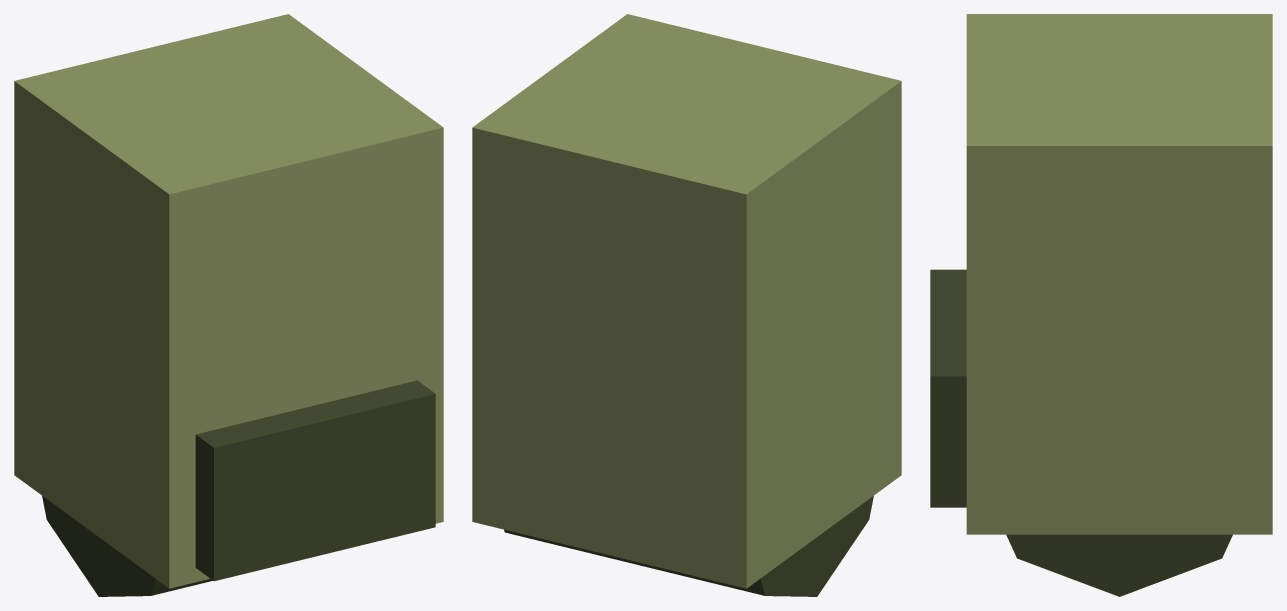
File: pc_engineer_upper_leg.fbx
3 views of the same model, side by side, from view 1: azimuth 30°, elevation 25°; view 2: azimuth 150°, elevation 25°; view 3: azimuth 270°, elevation 25° (orthographic).
Parts seen in each view (by area): view 1: pc_engineer_upper_leg; view 2: pc_engineer_upper_leg; view 3: pc_engineer_upper_leg.
Boxes of the visible parts, <box> form: pc_engineer_upper_leg: <box>14,14,443,596</box>; pc_engineer_upper_leg: <box>472,14,901,596</box>; pc_engineer_upper_leg: <box>930,14,1272,596</box>.
Bounding box in the file's own units: 99 × 159 × 109.
